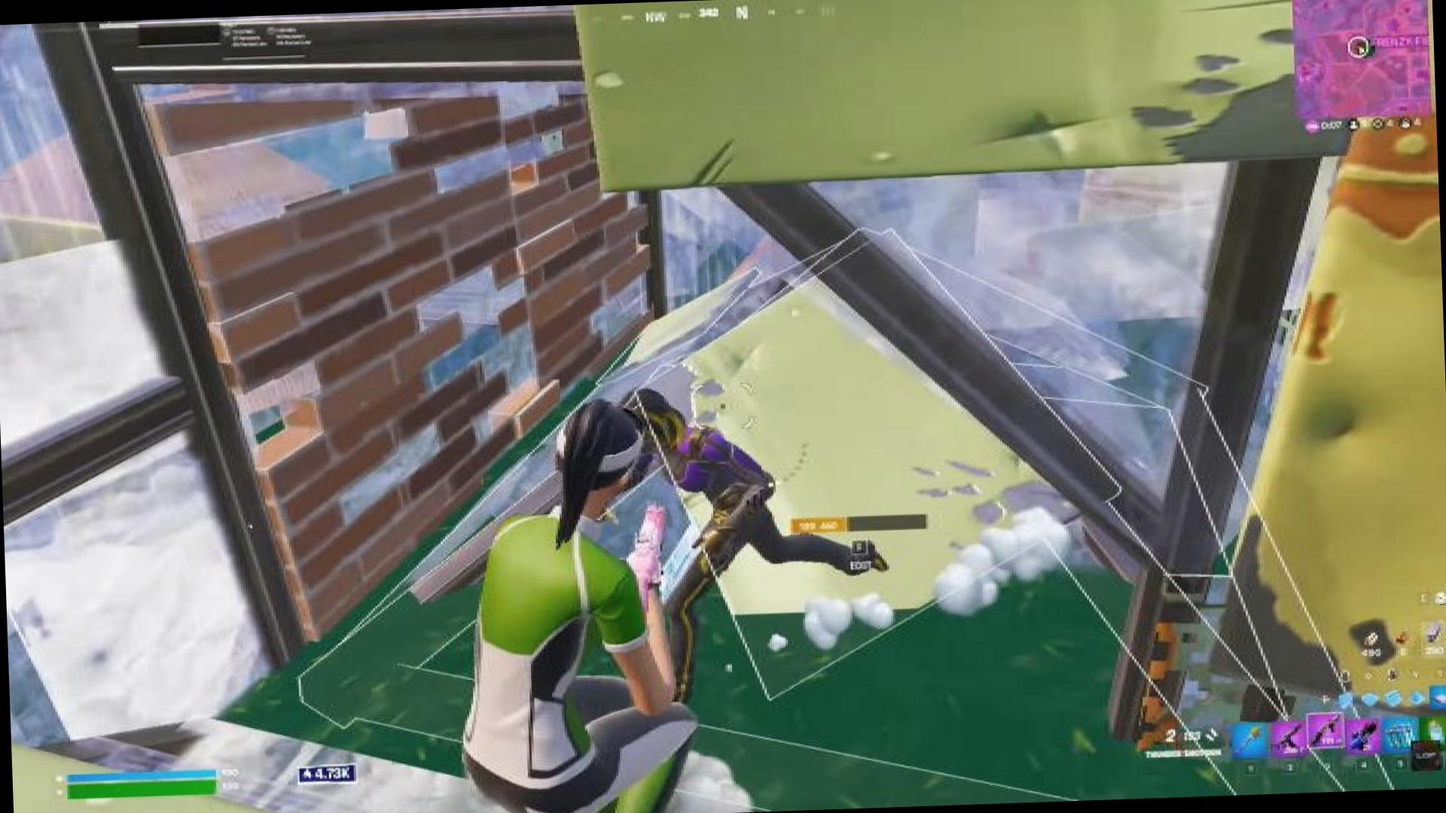player: (418, 385, 739, 813), (628, 385, 869, 638)
